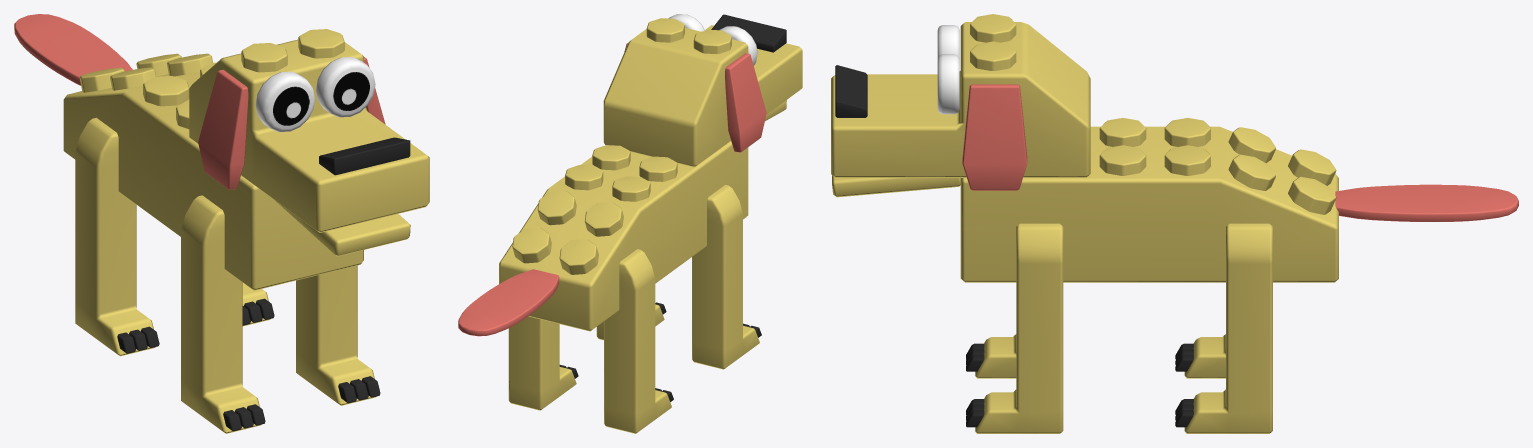
Rendered from dog_ekpuzzle.fbx.
3 renders of one model, left to right at view 1: azimuth 30°, elevation 25°; view 2: azimuth 150°, elevation 25°; view 3: azimuth 270°, elevation 25°, orthographic. The views are drawn at different scales.
Visible parts, largest first — view 1: dog_head.001, dog_body.001, dog_leg_3, dog_leg_2, dog_leg_1, dog_tail, dog_leg_4; view 2: dog_body.001, dog_head.001, dog_leg_3, dog_leg_2, dog_leg_4, dog_tail; view 3: dog_body.001, dog_head.001, dog_leg_1, dog_leg_4, dog_tail, dog_leg_2, dog_leg_3.
Boxes of the visible parts, bbox=[...] form: dog_head.001: bbox=[189, 29, 429, 256]; dog_body.001: bbox=[63, 53, 363, 290]; dog_leg_3: bbox=[75, 117, 159, 356]; dog_leg_2: bbox=[181, 195, 265, 433]; dog_leg_1: bbox=[296, 265, 380, 405]; dog_tail: bbox=[14, 14, 132, 85]; dog_leg_4: bbox=[242, 282, 274, 326]; dog_body.001: bbox=[499, 141, 748, 331]; dog_head.001: bbox=[603, 14, 802, 167]; dog_leg_3: bbox=[604, 249, 673, 433]; dog_leg_2: bbox=[692, 185, 761, 369]; dog_leg_4: bbox=[508, 316, 578, 410]; dog_tail: bbox=[458, 269, 559, 336]; dog_body.001: bbox=[960, 118, 1338, 282]; dog_head.001: bbox=[831, 14, 1090, 197]; dog_leg_1: bbox=[966, 223, 1063, 433]; dog_leg_4: bbox=[1175, 223, 1272, 433]; dog_tail: bbox=[1335, 184, 1518, 221]; dog_leg_2: bbox=[966, 334, 1016, 378]; dog_leg_3: bbox=[1175, 334, 1225, 378].
Bounding box in the file's own units: 1.04 × 2.3 × 3.98.
